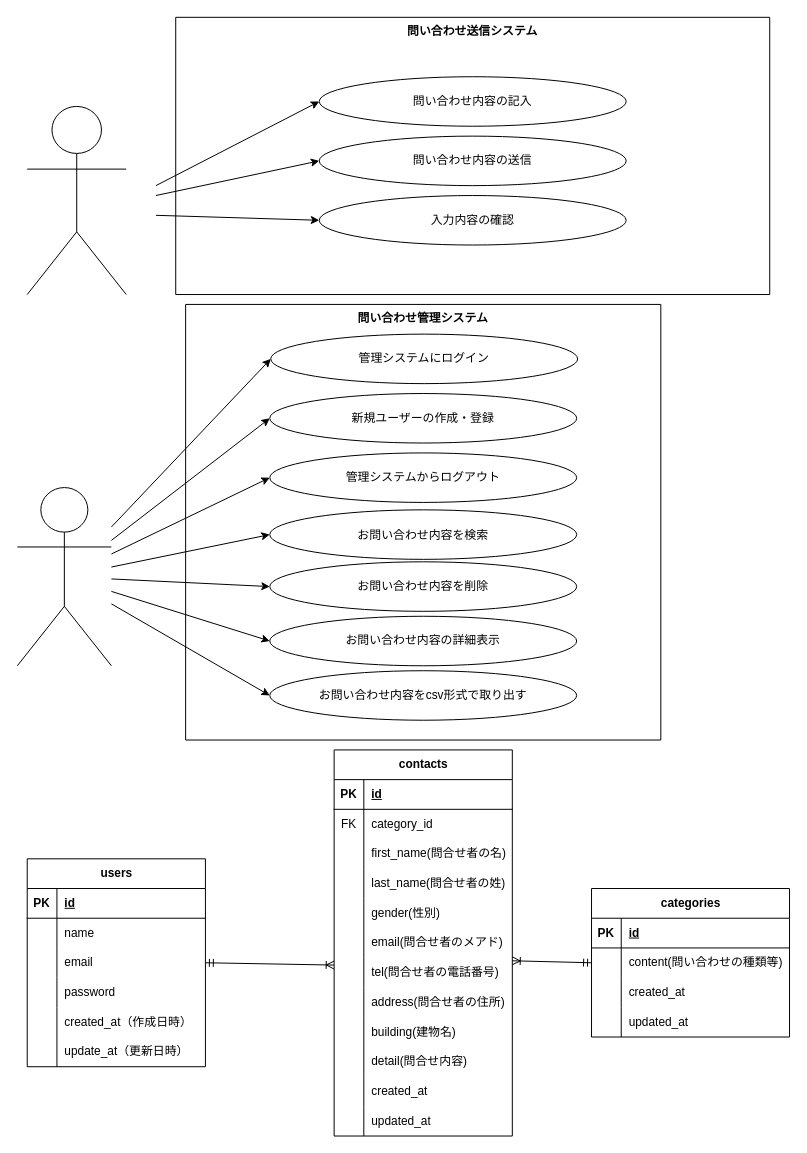
The diagram is 807 pixels wide and 1153 high, and some of its shapes have lost their labels. Here are the shapes that lost their labels. From the top down, the centre of each, then its label:
At point 76,200: "利用者".
At point 63,576: "管理者".
